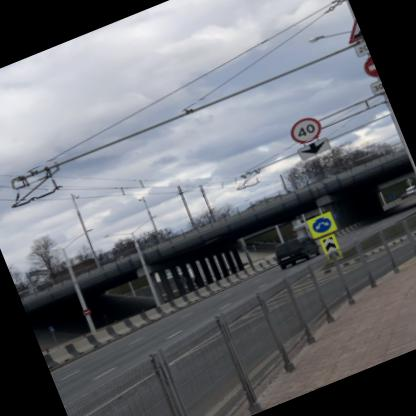speedlimit: (284, 112, 324, 146)
